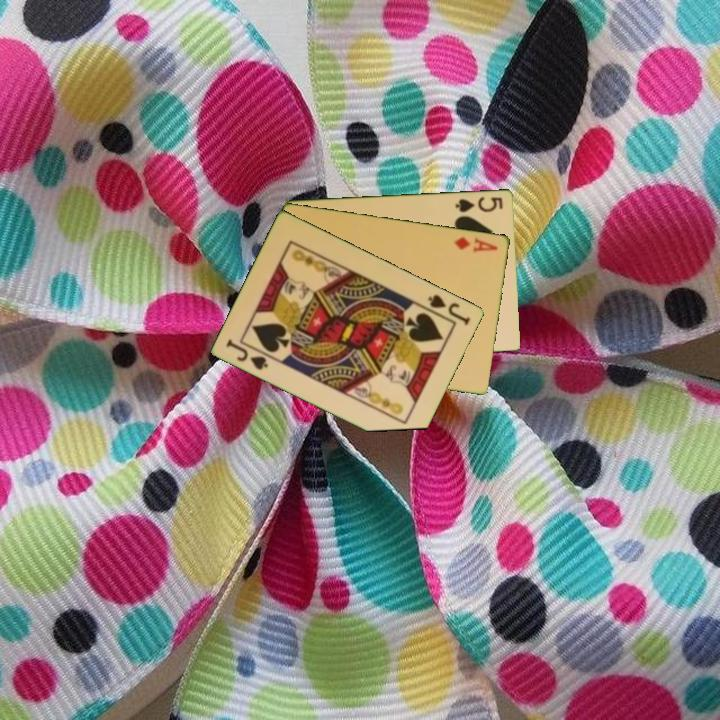5s: (452, 193, 506, 215)
Ad: (451, 233, 501, 255)
Js: (424, 291, 474, 328), (223, 336, 272, 373)
